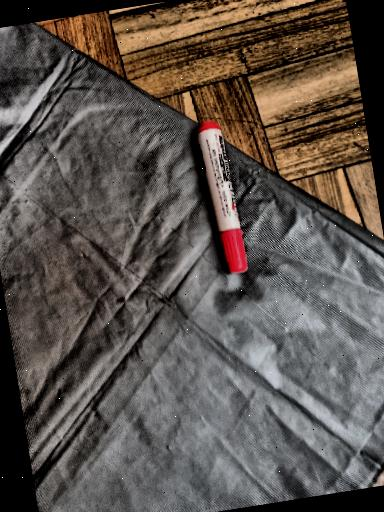marcador rojo: (196, 120, 247, 272)
